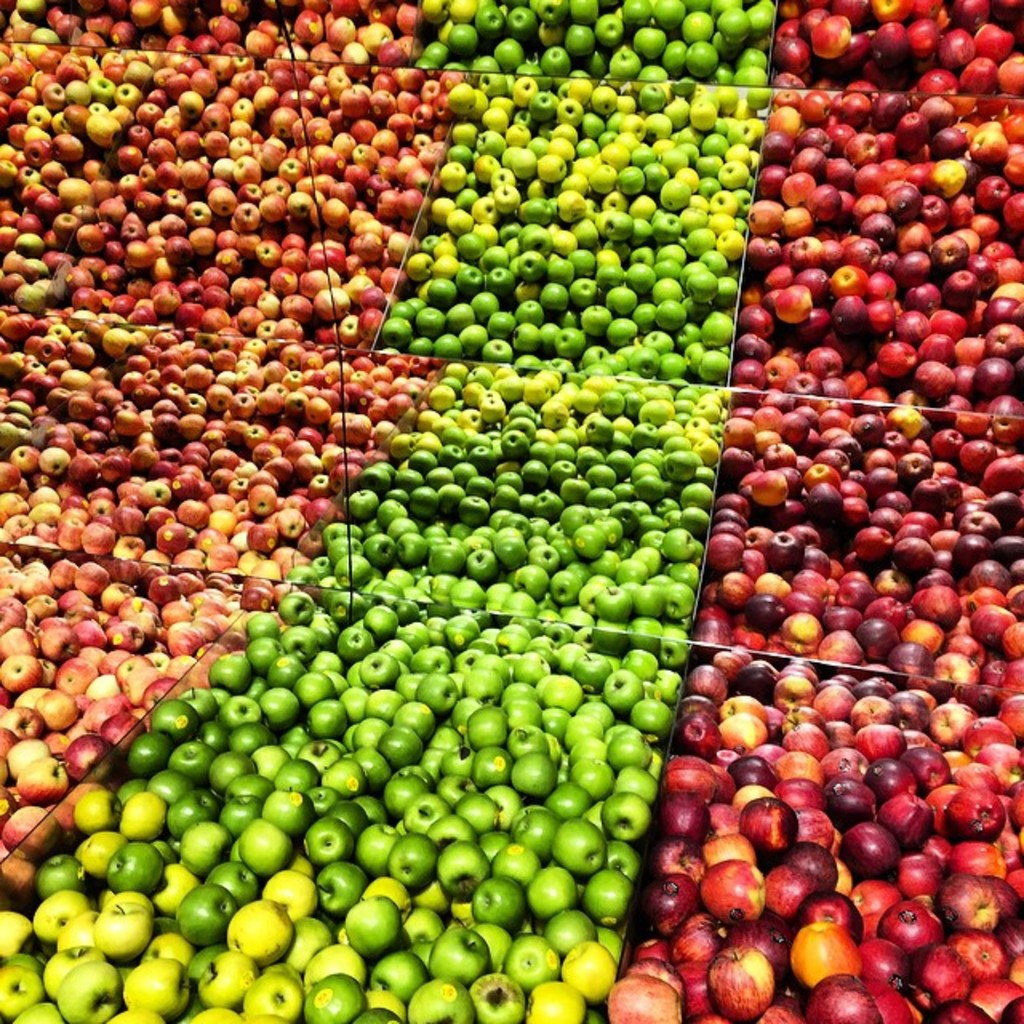Apple: (0, 0, 1022, 1022), (710, 940, 775, 1019)
